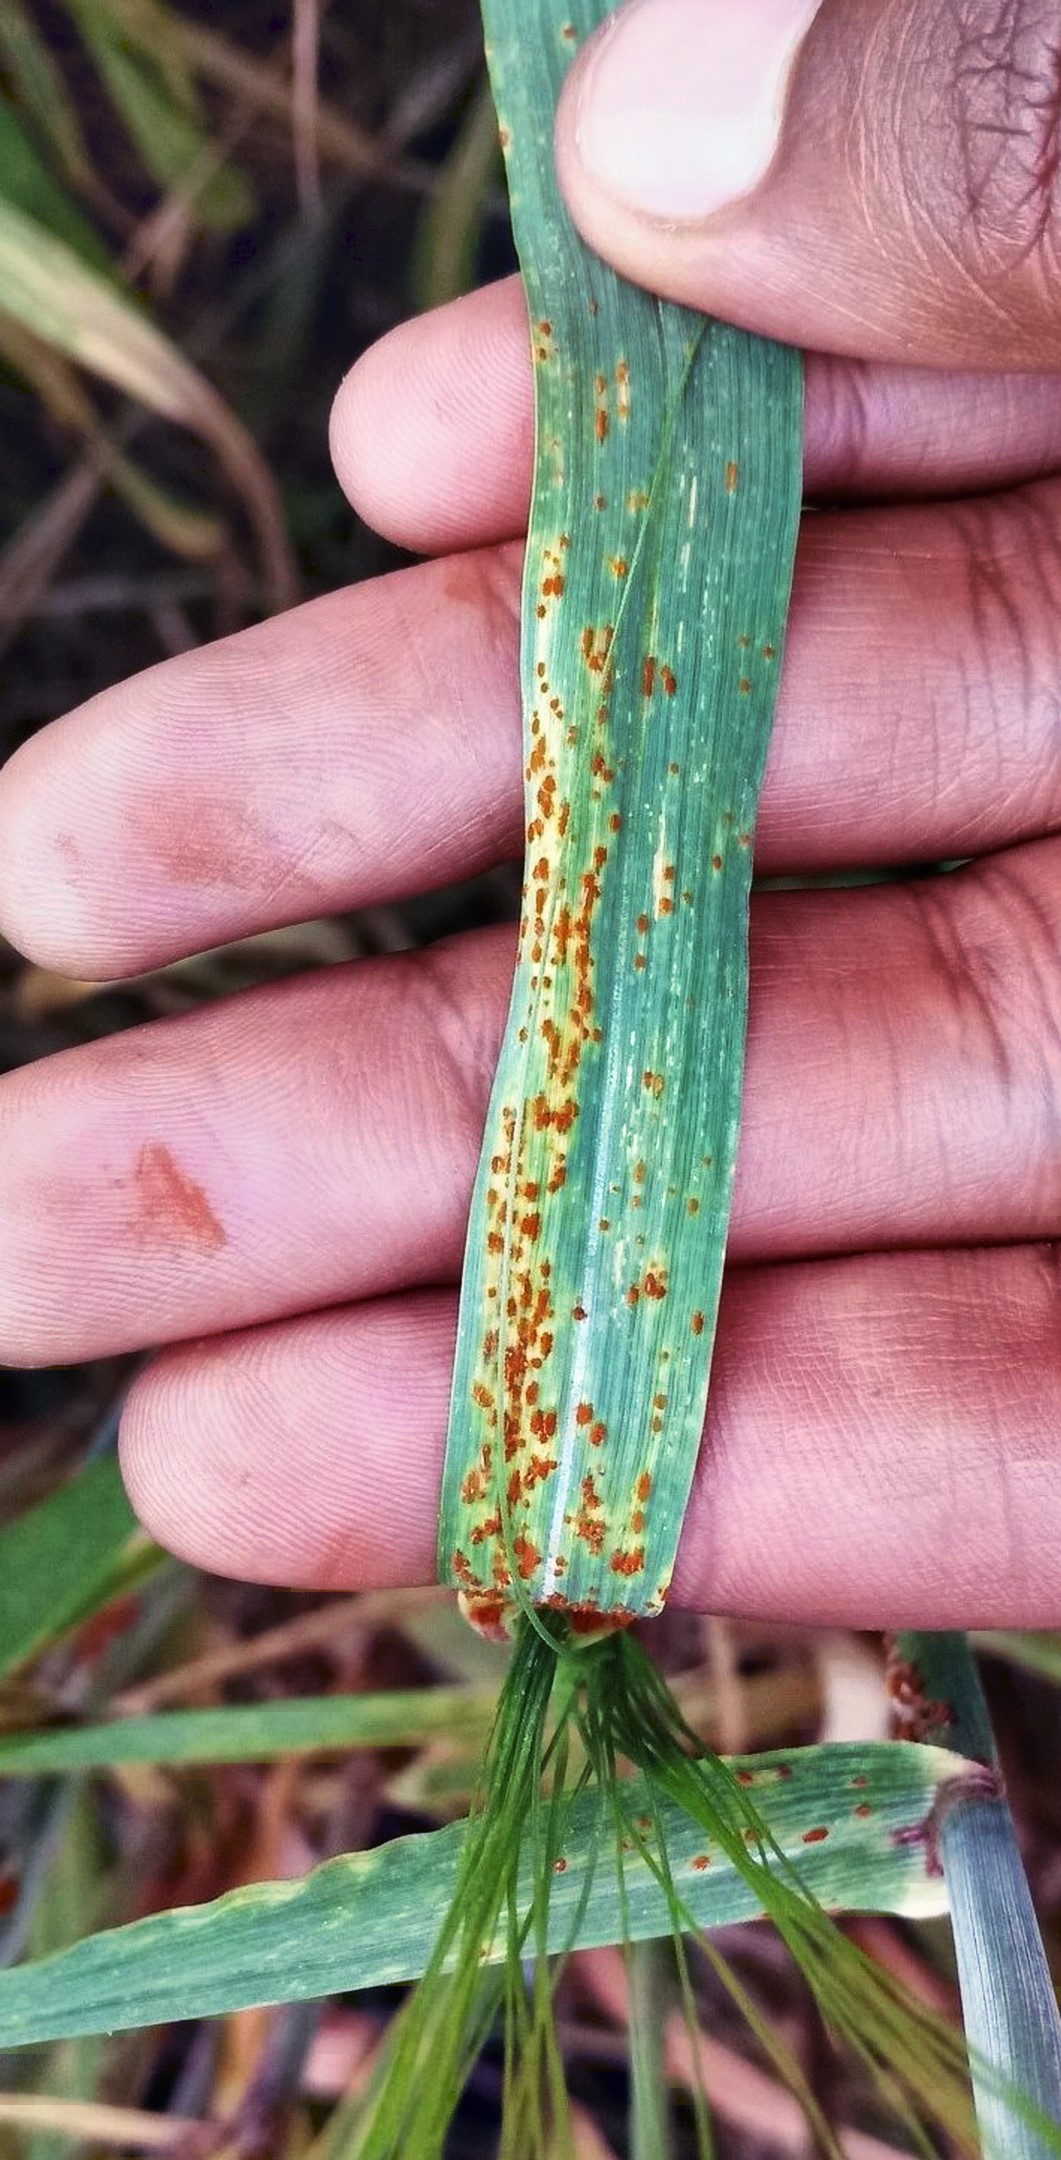Leaf Rust: (422, 574, 783, 1665)
